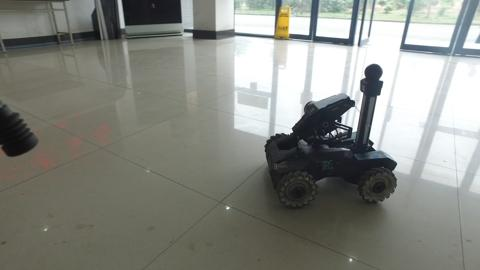chariot: (264, 63, 398, 210)
